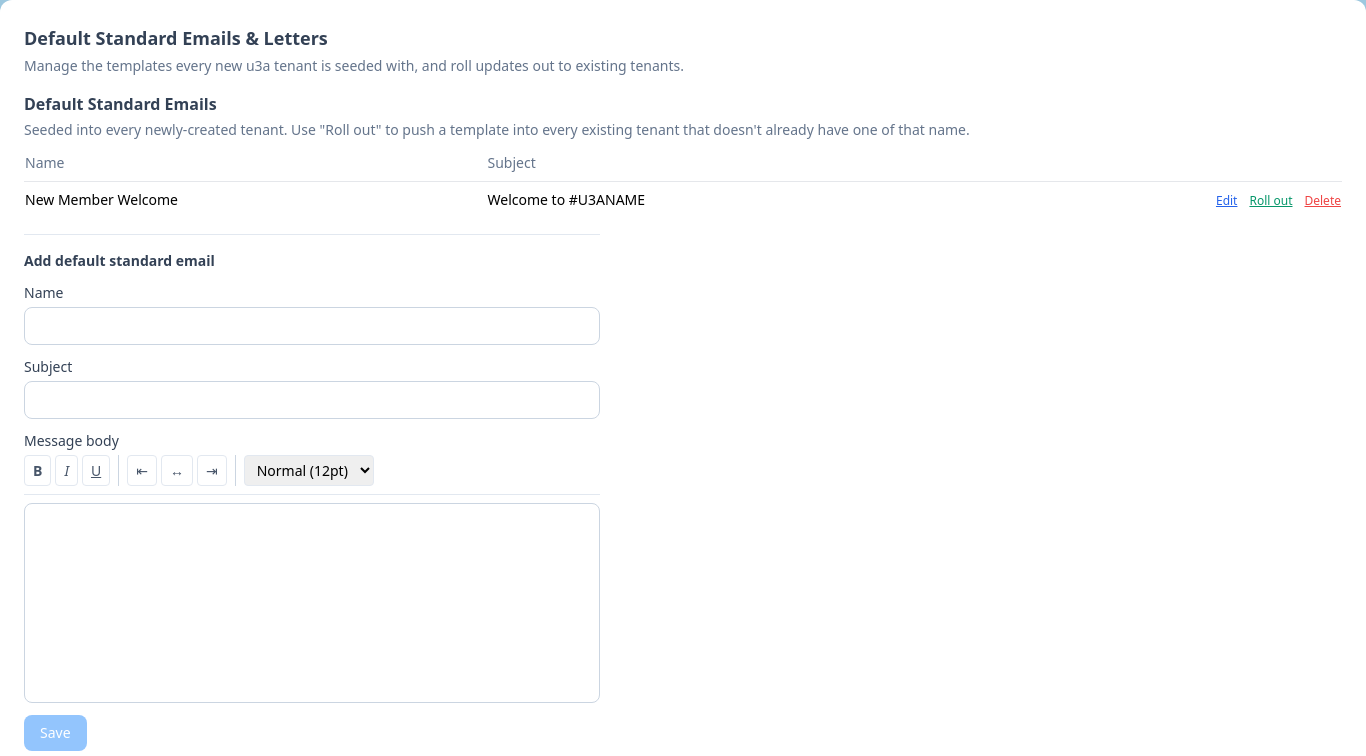
Test: DefaultTemplatesSection › rolls out a default message and shows the per-tenant result
Click the button "Roll out": (1271, 201) [1250,193,1292,209]
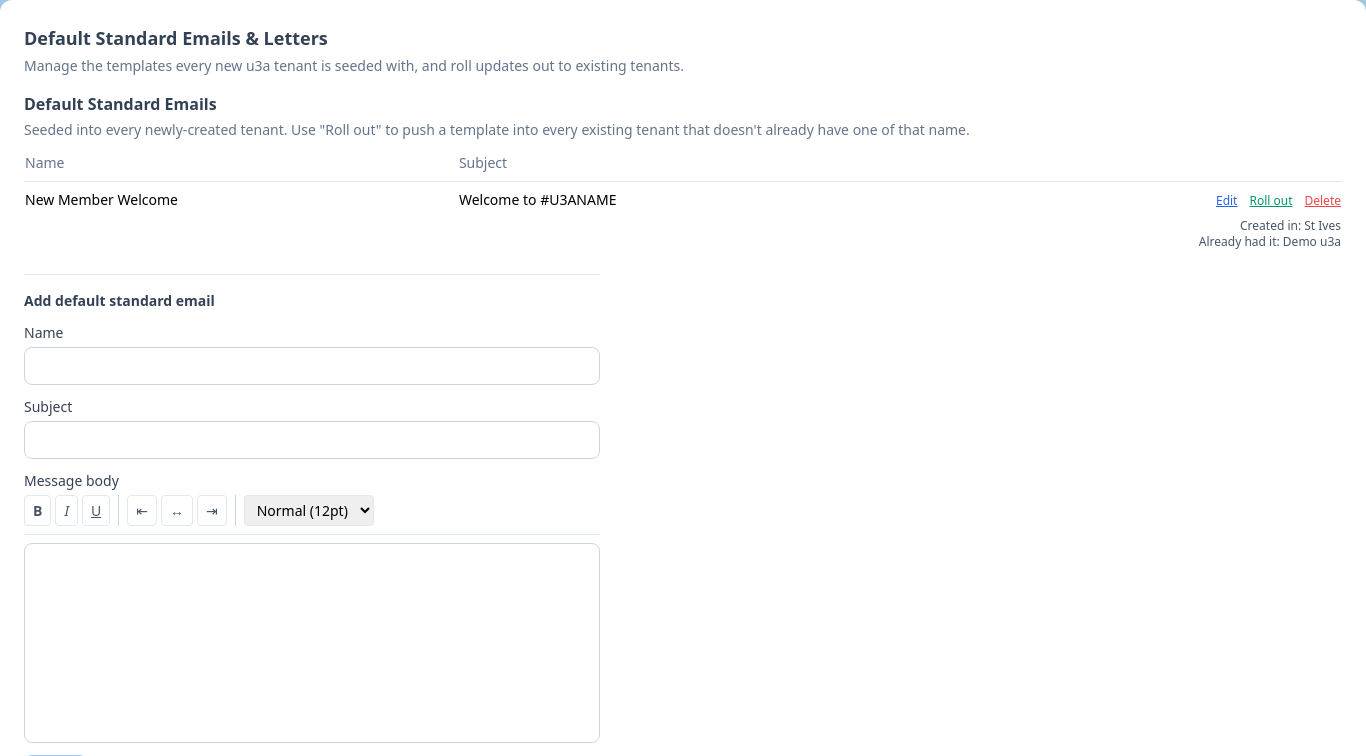
Check: the text "Created in: St Ives" is shown, box [1240,217,1341,234]
Check: the text "Already had it: Demo u3a" is shown, box [1199,233,1341,250]
